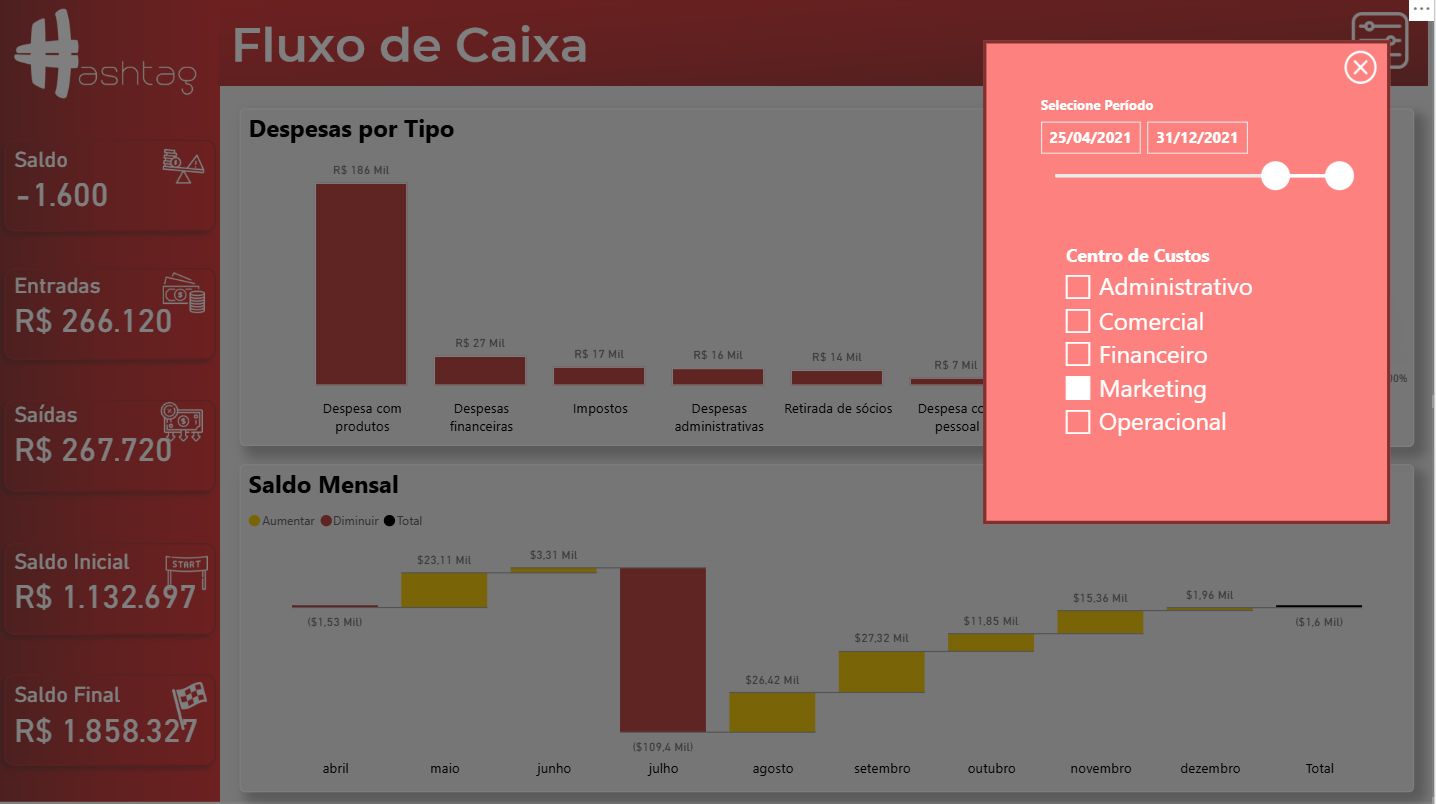

This screenshot's page, from the dashboard's own definition file:
{"tool":"powerbi","page":{"name":"Fluxo de Caixa","canvas":[1280,720],"ordinal":0},"visuals":[{"type":"multiRowCard","title":"Saldo","fields":{"Values":["Movimentações.Saldo"]},"box":[11.8,133.7,189.6,80.8],"z":0},{"type":"multiRowCard","title":"Entradas","fields":{"Values":["Movimentações.Entradas"]},"box":[11.8,245.4,189.6,77.9],"z":1000},{"type":"multiRowCard","title":"Saídas","fields":{"Values":["Movimentações.Saidas"]},"box":[11.8,360,189.6,77.9],"z":2000},{"type":"multiRowCard","title":"Saldo Inicial","fields":{"Values":["Movimentações.Saldo Inicial"]},"box":[11.8,490.8,189.6,77.9],"z":3000},{"type":"multiRowCard","title":"Saldo Final","fields":{"Values":["Movimentações.Saldo Final"]},"box":[11.8,609.8,189.6,77.9],"z":4000},{"type":"columnChart","title":"Despesas por Tipo","fields":{"Category":["Movimentações.Classificação"],"Y":["Movimentações.Saidas"]},"box":[217.5,99.9,728.8,299.8],"z":5000},{"type":"gauge","fields":{"Y":["Movimentações.Margem"]},"box":[955.6,99.9,306.1,300.5],"z":6000},{"type":"waterfallChart","title":"Saldo Mensal","fields":{"Category":["Calendario.Nome do Mes"],"Y":["Movimentações.Saldo"]},"box":[217.4,416.2,1044.3,291.2],"z":7000},{"type":"image","box":[1201.1,0,60.7,78.4],"z":8000}]}

Visuals, with their boxes on the page's 1280x720 design canvas (x1, y1, x2, y2). These are canvas units, not pixel positions in the 1436x804 screenshot, which may show the page scaled, cropped or inside an application window:
"Saldo" multiRowCard: <region>12, 134, 201, 214</region>
"Entradas" multiRowCard: <region>12, 245, 201, 323</region>
"Saídas" multiRowCard: <region>12, 360, 201, 438</region>
"Saldo Inicial" multiRowCard: <region>12, 491, 201, 569</region>
"Saldo Final" multiRowCard: <region>12, 610, 201, 688</region>
"Despesas por Tipo" columnChart: <region>218, 100, 946, 400</region>
gauge - Movimentações.Margem: <region>956, 100, 1262, 400</region>
"Saldo Mensal" waterfallChart: <region>217, 416, 1262, 707</region>
image: <region>1201, 0, 1262, 78</region>
